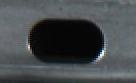holes: (26, 17, 105, 64)
